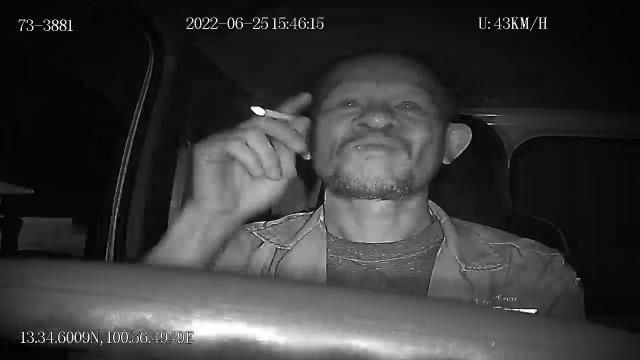Smoking: (248, 103, 298, 121)
